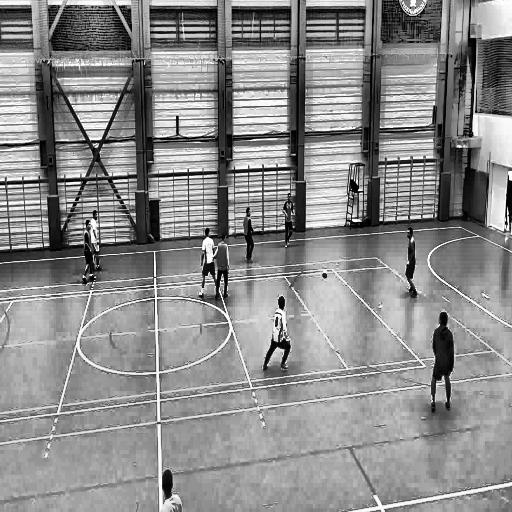ball: (321, 267, 330, 281)
player: (428, 307, 454, 416), (261, 295, 292, 378), (212, 230, 232, 302), (199, 224, 218, 298), (157, 467, 184, 512), (404, 227, 419, 301), (81, 220, 98, 282), (282, 194, 296, 251), (89, 209, 102, 270), (243, 208, 256, 266)
